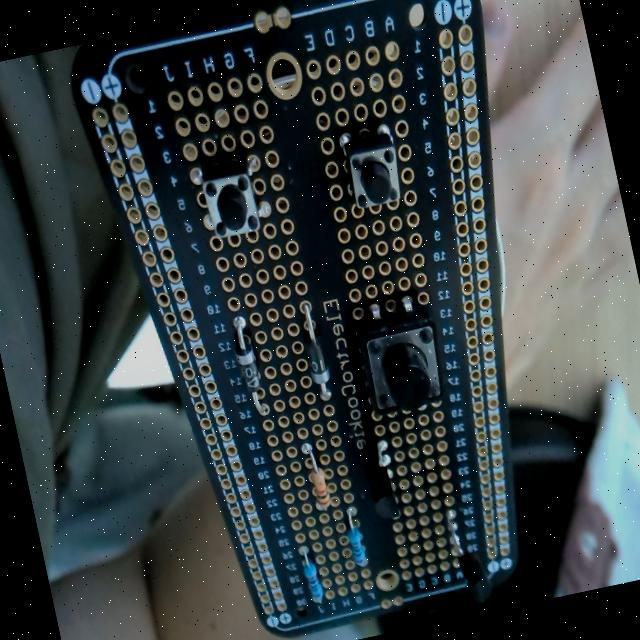diode: (294, 296, 336, 406), (228, 314, 270, 420)
resistor: (300, 439, 334, 513), (342, 504, 368, 568), (298, 545, 324, 603)
switch: (356, 308, 451, 417), (195, 152, 268, 243), (338, 122, 406, 213)
transistor: (430, 500, 502, 614), (360, 434, 405, 522)
